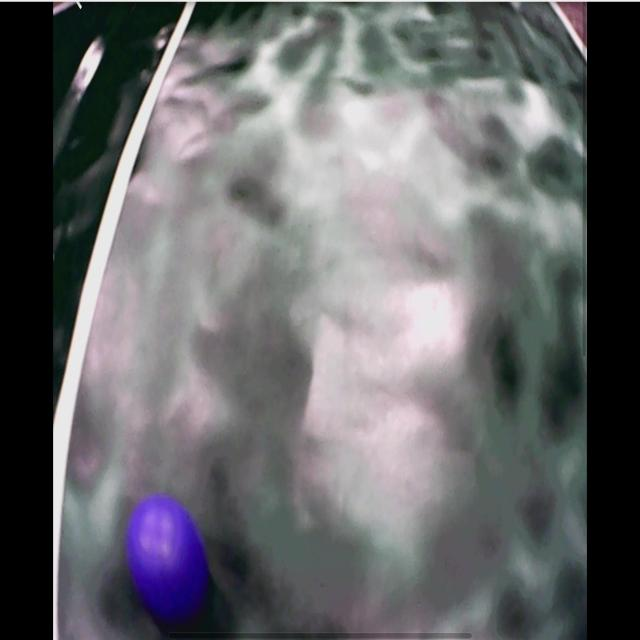ball: (126, 497, 205, 620)
